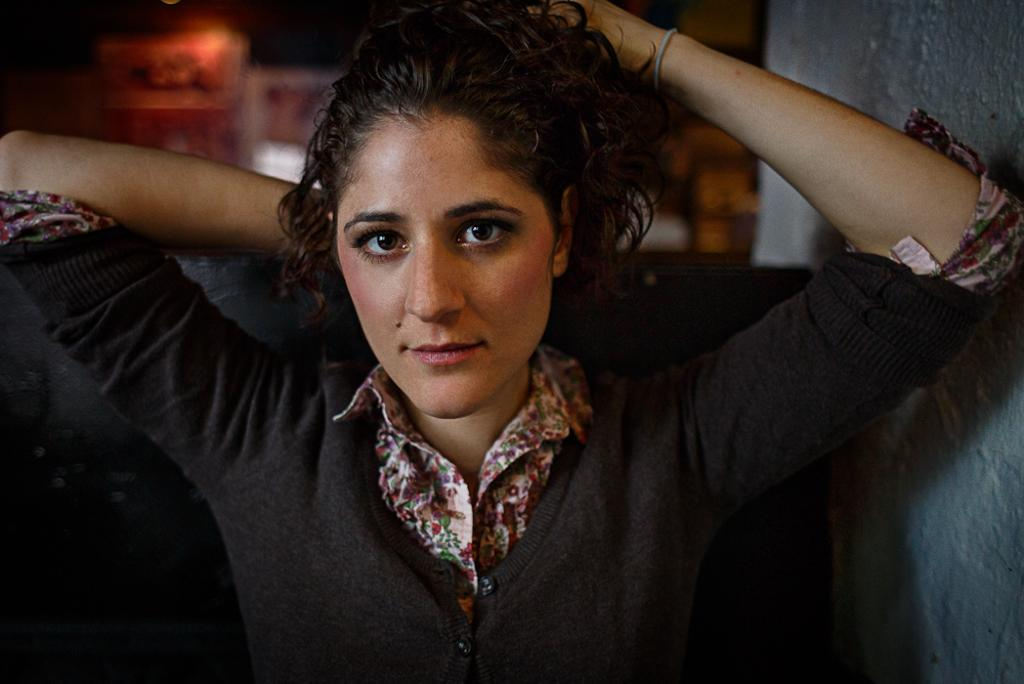face: (338, 120, 538, 412)
